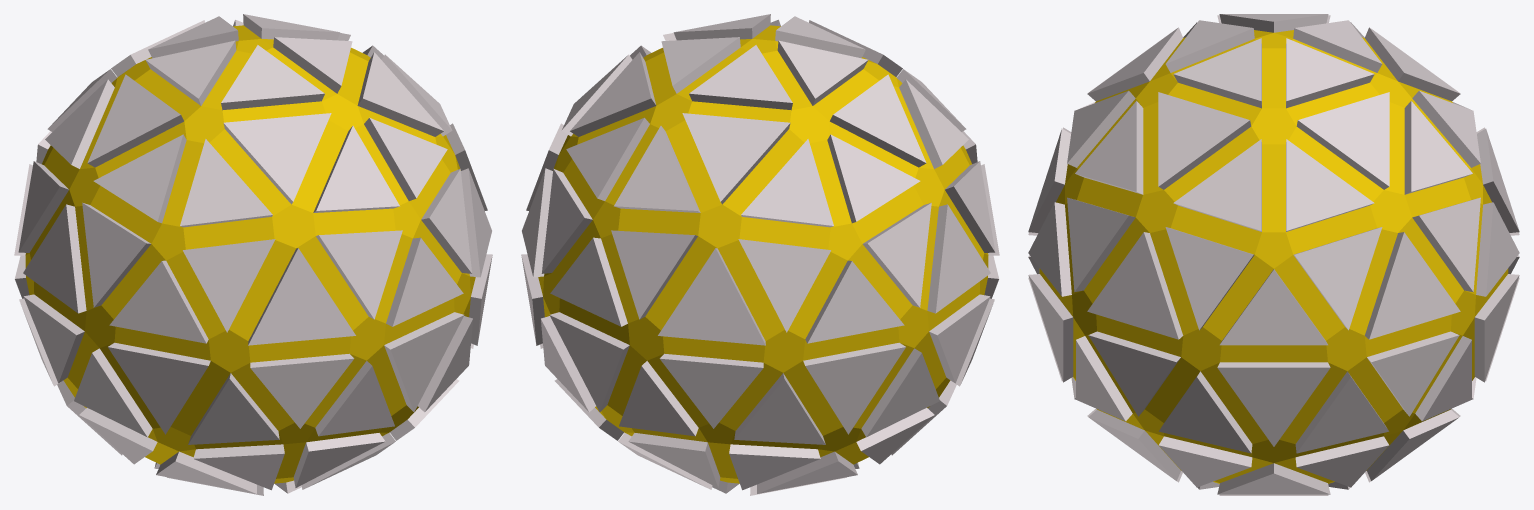
Rendered from SPhereOpen.fbx.
The picture shows the model from 3 angles, left to right: view 1: azimuth 30°, elevation 25°; view 2: azimuth 150°, elevation 25°; view 3: azimuth 270°, elevation 25°; orthographic projection. The views are drawn at different scales.
Parts seen in each view (by area): view 1: Icosphere, Icosphere.001; view 2: Icosphere, Icosphere.001; view 3: Icosphere, Icosphere.001.
Part boxes in pixels (x1=…): Icosphere: x1=14, y1=14, x2=492, y2=495; Icosphere.001: x1=25, y1=25, x2=475, y2=483; Icosphere: x1=521, y1=14, x2=999, y2=495; Icosphere.001: x1=538, y1=25, x2=988, y2=483; Icosphere: x1=1028, y1=14, x2=1519, y2=495; Icosphere.001: x1=1039, y1=30, x2=1508, y2=483.
Size of the model in its own units: 185 by 190 by 189.
